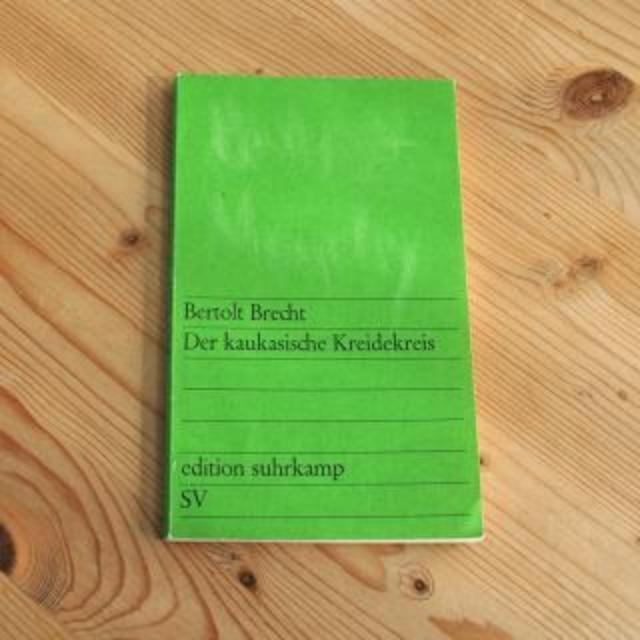book: (134, 120, 486, 520)
